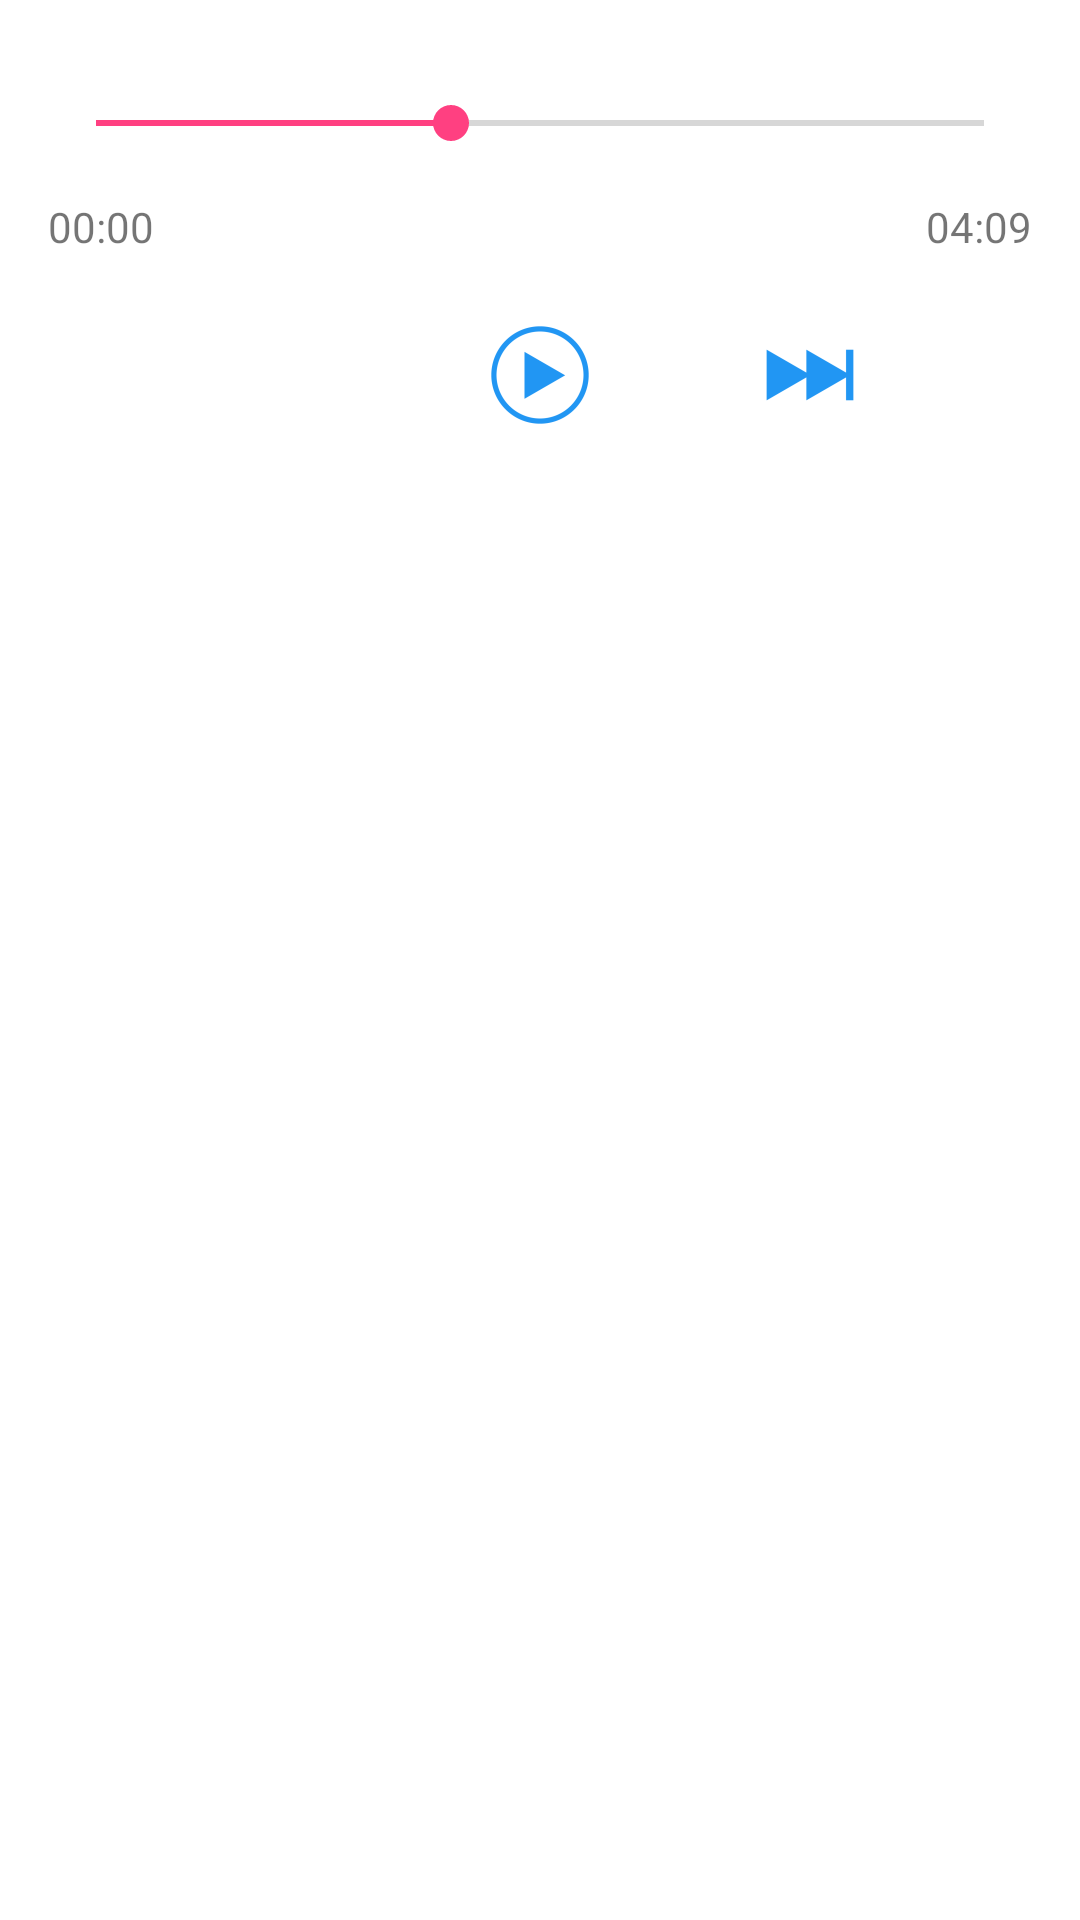

Where icons sit on this 1080px×1920px app screen, as (x1, y1, x2, y2):
next: (766, 349, 854, 401)
play: (491, 326, 589, 424)
